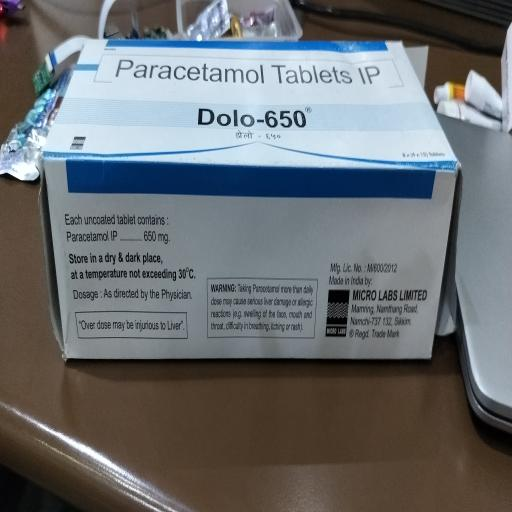medicine: (38, 38, 455, 365)
paracetamol: (104, 54, 389, 152)
